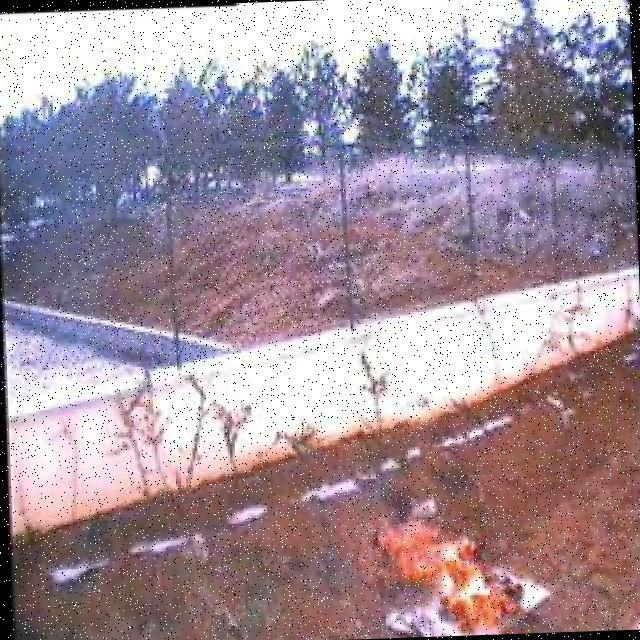Fire: (369, 508, 527, 638)
